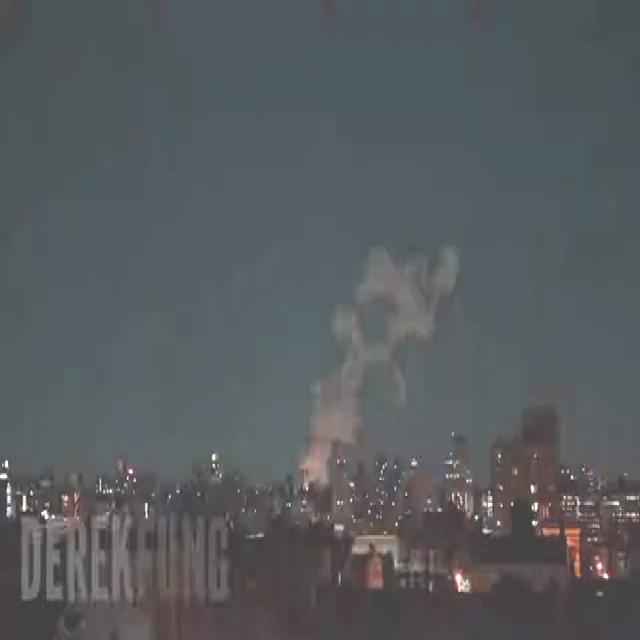smoke: (299, 245, 458, 482)
